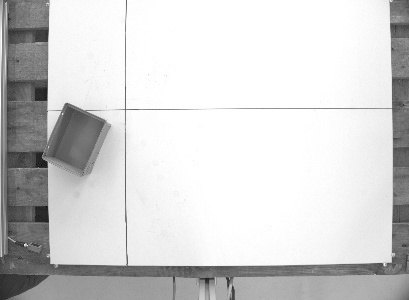klts: (39, 100, 112, 178)
